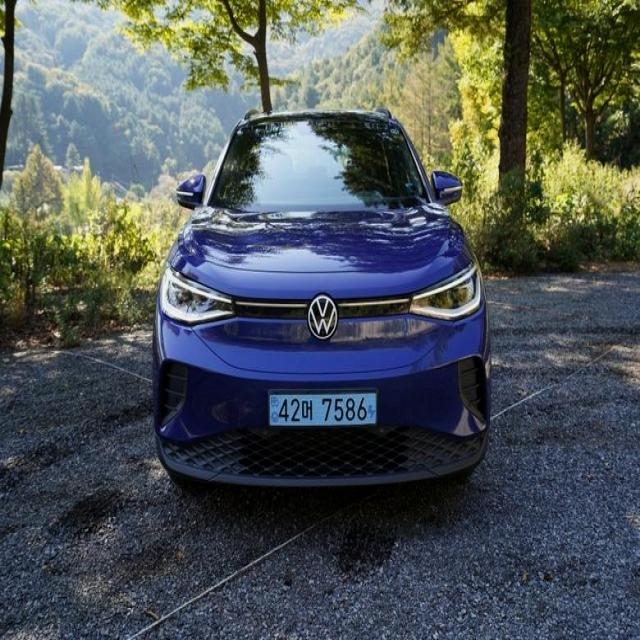EV_plate: (269, 387, 381, 433)
car: (150, 102, 491, 493)
